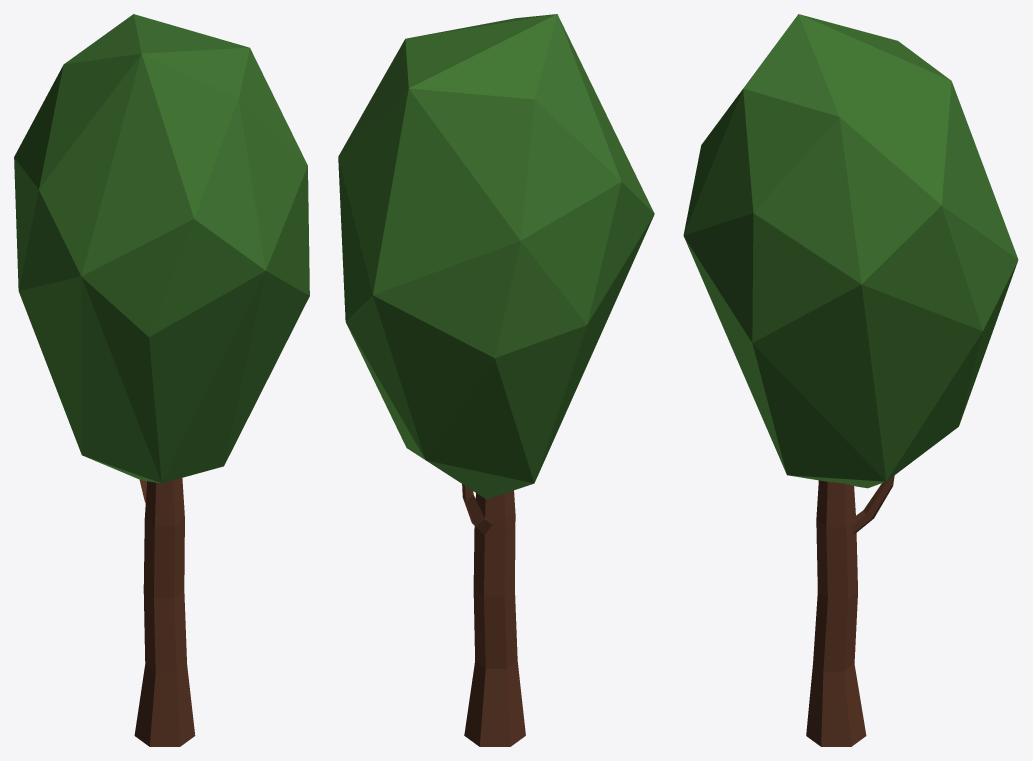
The model's file is Tree_02.fbx.
3 renders of one model, left to right at view 1: azimuth 30°, elevation 25°; view 2: azimuth 150°, elevation 25°; view 3: azimuth 270°, elevation 25°, orthographic. The views are drawn at different scales.
Visible parts, largest first — view 1: Tree_02; view 2: Tree_02; view 3: Tree_02.
Boxes of the visible parts, box(x1,y1,x2,y2) form: Tree_02: box(14, 14, 309, 746); Tree_02: box(338, 14, 654, 746); Tree_02: box(683, 14, 1018, 746).
Bounding box in the file's own units: 524 × 1353 × 586.
